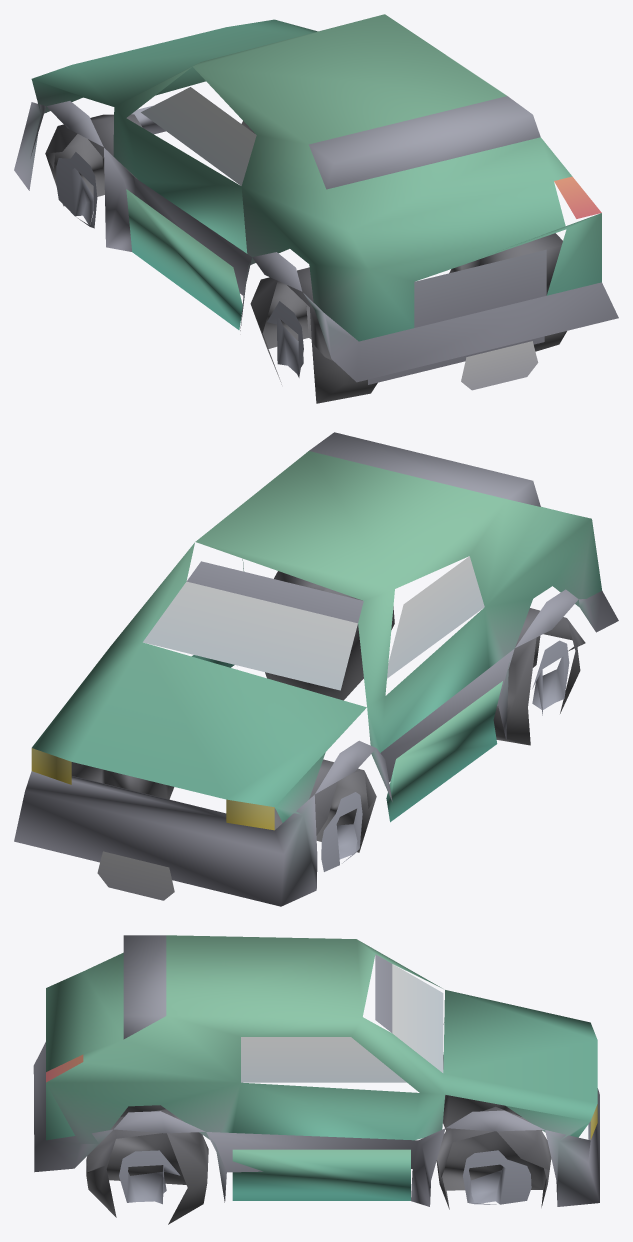
Rendered from car_hatchback-sports_lod1.glb.
3 views of the same model, one above another, from view 1: azimuth 30°, elevation 25°; view 2: azimuth 150°, elevation 25°; view 3: azimuth 270°, elevation 25° (orthographic). The views are drawn at different scales.
Size of the model in its own units: 1.95 by 1.6 by 4.28.
